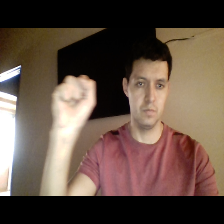9D: (46, 71, 98, 134)
